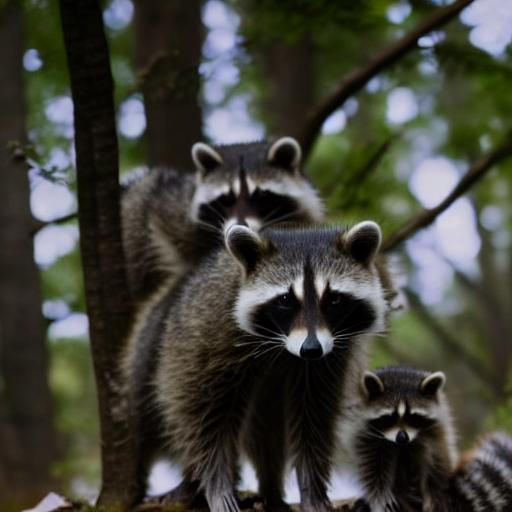raccoon: (95, 213, 398, 512), (107, 132, 325, 299), (349, 364, 512, 512)
